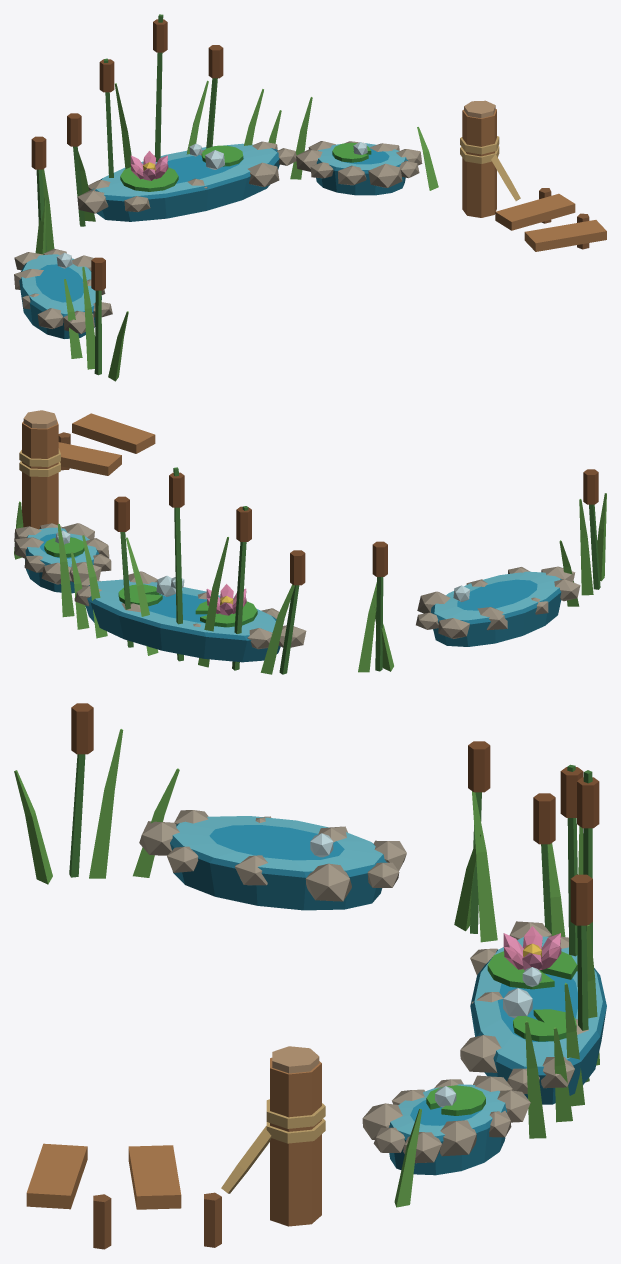
File: habitat_theme_pond.fbx
3 renders of one model, top to bottom at view 1: azimuth 30°, elevation 25°; view 2: azimuth 150°, elevation 25°; view 3: azimuth 270°, elevation 25°, orthographic. The views are drawn at different scales.
Visible parts, largest first — view 1: habitat_theme_pond; view 2: habitat_theme_pond; view 3: habitat_theme_pond.
Part boxes in pixels (bbox=[...]): habitat_theme_pond: bbox=[14, 14, 606, 381]; habitat_theme_pond: bbox=[14, 410, 606, 674]; habitat_theme_pond: bbox=[14, 703, 606, 1249].
Size of the model in its own units: 7.41 by 2.45 by 4.77.
